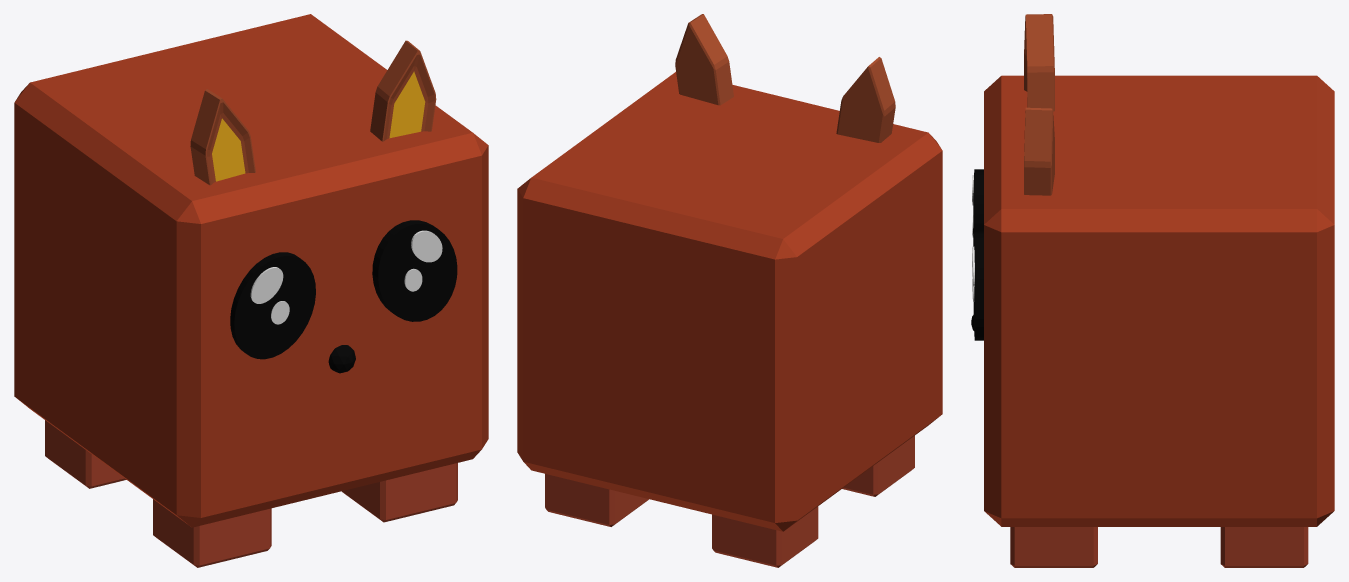
The picture shows the model from 3 angles, left to right: view 1: azimuth 30°, elevation 25°; view 2: azimuth 150°, elevation 25°; view 3: azimuth 270°, elevation 25°; orthographic projection. The views are drawn at different scales.
Parts seen in each view (by area): view 1: EyeSparkles1; view 2: EyeSparkles1; view 3: EyeSparkles1.
Part boxes in pixels (x1,y1,x2,y2): EyeSparkles1: (14,14,488,567); EyeSparkles1: (517,14,942,567); EyeSparkles1: (971,14,1334,567).
Size of the model in its own units: 2 by 2.81 by 2.07.
1 material, 1 textured.
